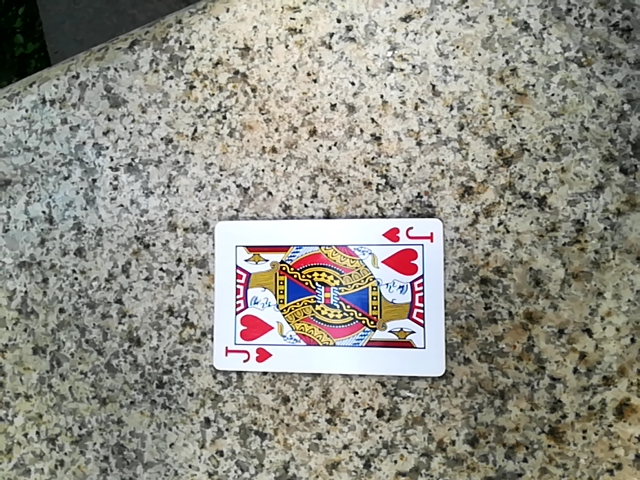hx j: (208, 217, 444, 380)
